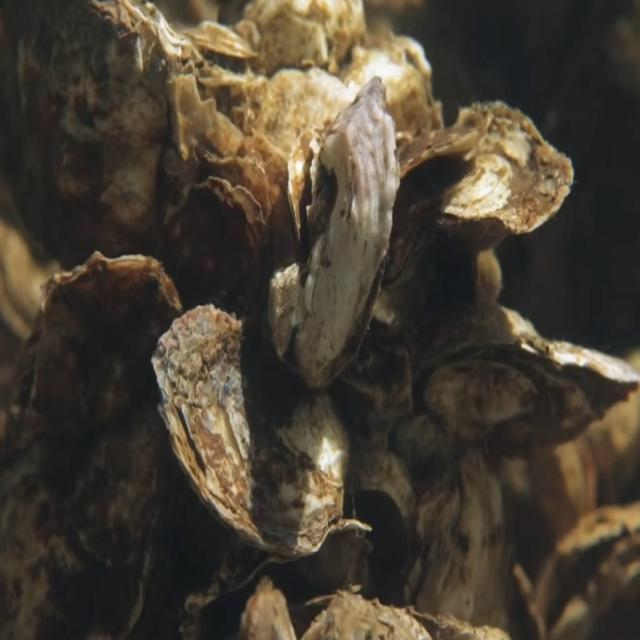Oyster-Closed: (0, 250, 185, 640), (148, 303, 354, 558), (267, 76, 400, 392), (409, 303, 640, 463), (382, 101, 574, 290), (396, 443, 514, 640)
Oyster-Indeterminate: (0, 0, 221, 272), (160, 173, 269, 327)
Oyster-Open: (195, 517, 372, 640), (531, 503, 640, 639)
